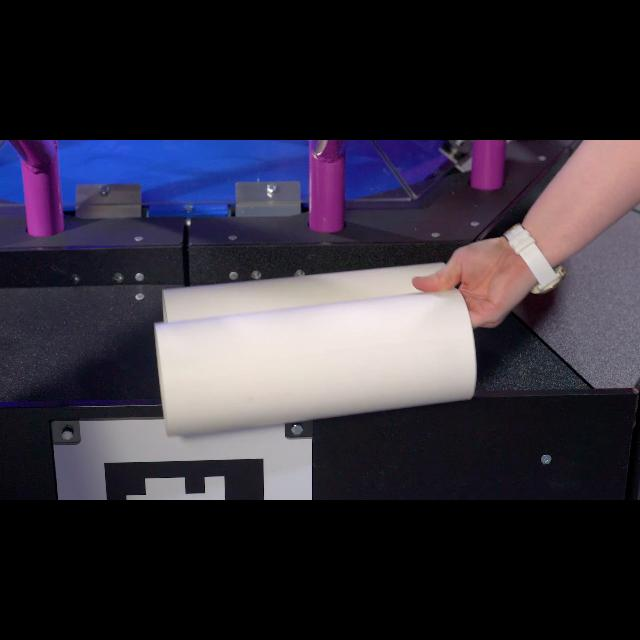CORAL: (152, 289, 478, 437), (163, 261, 455, 323)
